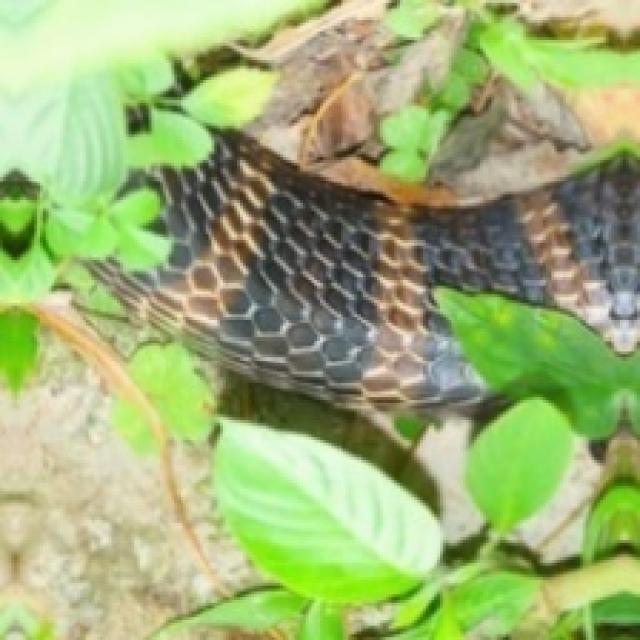king cobra: (97, 131, 637, 406)
